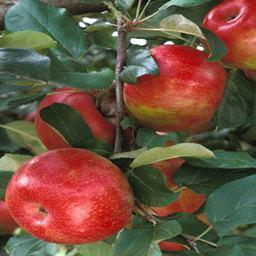apple: (6, 146, 134, 244), (122, 43, 226, 132), (34, 85, 130, 154), (200, 1, 255, 77)
